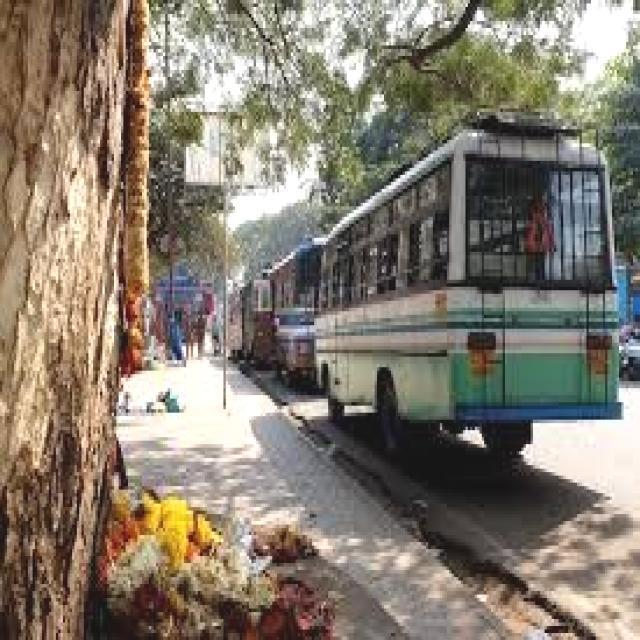Bus: (314, 89, 635, 472), (258, 226, 322, 387), (224, 254, 280, 364)
